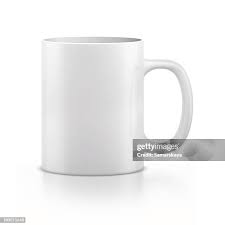mug: (26, 32, 203, 189)
